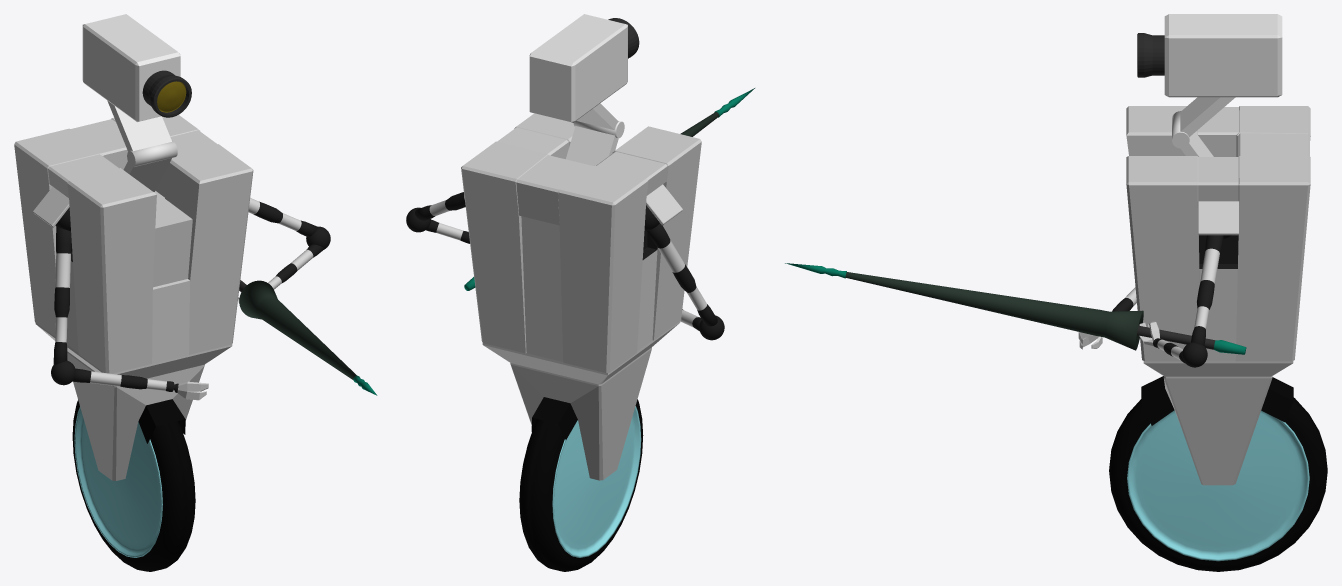
File: Robot1_head.fbx
3 views of the same model, side by side, from view 1: azimuth 30°, elevation 25°; view 2: azimuth 150°, elevation 25°; view 3: azimuth 270°, elevation 25° (orthographic). The views are drawn at different scales.
Parts seen in each view (by area): view 1: RobotBody, Wheel, Head, Arm, Lance, Neck, Lense, Arm2, Cylinder, Sphere; view 2: RobotBody, Wheel, Head, Neck, Arm, Arm2, Lance, Sphere; view 3: RobotBody, Wheel, Head, Lance, Arm2, Neck, Lense.
Boxes of the visible parts, x1=… form: RobotBody: x1=14, y1=115, x2=253, y2=480; Wheel: x1=72, y1=400, x2=195, y2=571; Head: x1=82, y1=14, x2=180, y2=121; Arm: x1=53, y1=226, x2=208, y2=400; Lance: x1=239, y1=280, x2=377, y2=395; Neck: x1=107, y1=100, x2=171, y2=191; Lense: x1=142, y1=70, x2=191, y2=117; Arm2: x1=238, y1=198, x2=324, y2=302; Cylinder: x1=127, y1=140, x2=177, y2=167; Sphere: x1=51, y1=207, x2=75, y2=385; RobotBody: x1=461, y1=113, x2=701, y2=480; Wheel: x1=519, y1=399, x2=643, y2=571; Head: x1=529, y1=14, x2=627, y2=122; Neck: x1=566, y1=103, x2=618, y2=165; Arm: x1=647, y1=223, x2=717, y2=331; Arm2: x1=415, y1=192, x2=469, y2=243; Lance: x1=464, y1=88, x2=754, y2=290; Sphere: x1=644, y1=205, x2=724, y2=340; RobotBody: x1=1126, y1=106, x2=1310, y2=485; Wheel: x1=1109, y1=397, x2=1327, y2=571; Head: x1=1164, y1=14, x2=1282, y2=97; Lance: x1=785, y1=263, x2=1246, y2=354; Arm2: x1=1139, y1=235, x2=1223, y2=363; Neck: x1=1180, y1=97, x2=1235, y2=156; Lense: x1=1137, y1=33, x2=1164, y2=77.
Bounding box in the file's own units: 342 × 581 × 525.
